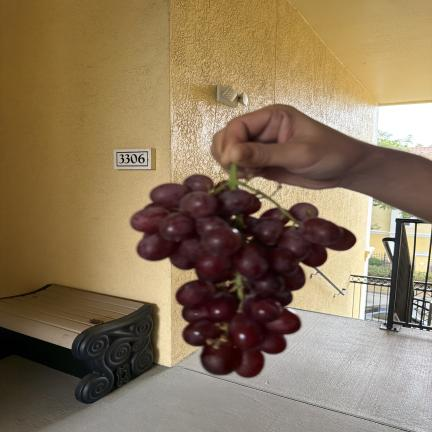grape_cluster: (132, 166, 356, 376)
